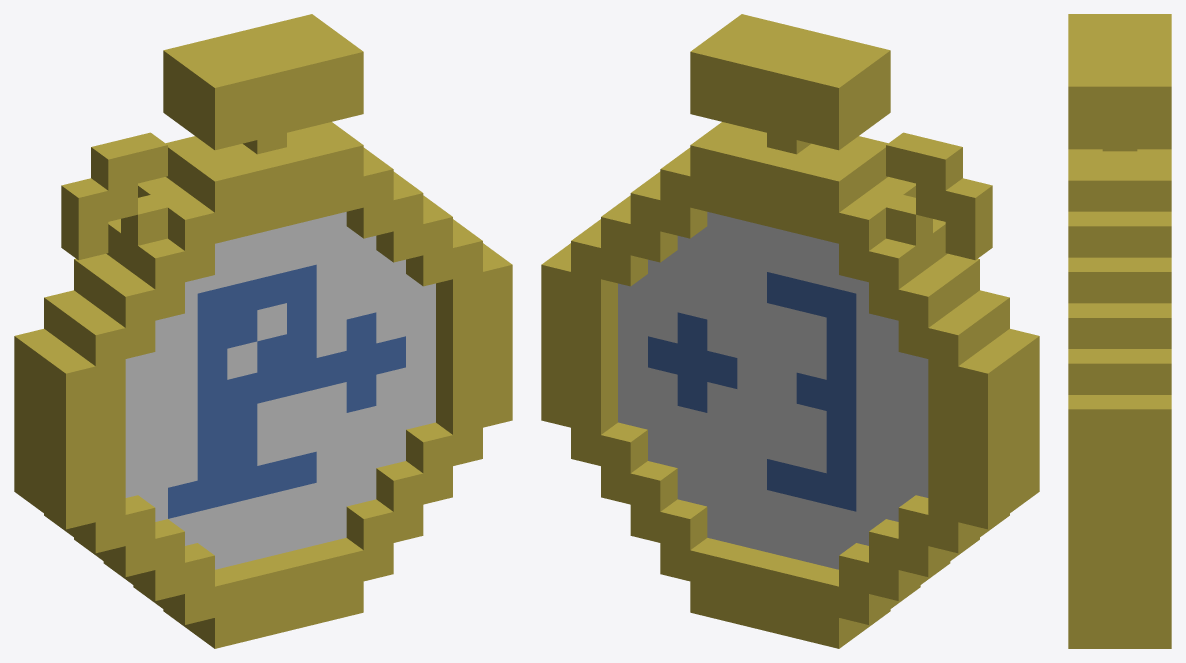
Rendered from time+3.fbx.
The picture shows the model from 3 angles, left to right: view 1: azimuth 30°, elevation 25°; view 2: azimuth 150°, elevation 25°; view 3: azimuth 270°, elevation 25°; orthographic projection.
Visible parts, largest first — view 1: Cube.005; view 2: Cube.005; view 3: Cube.005.
Boxes of the visible parts, x1,y1,x2,y2 form: Cube.005: (14, 14, 512, 648); Cube.005: (541, 14, 1039, 648); Cube.005: (1068, 14, 1171, 648).
Size of the model in its own units: 135 by 162 by 27.
